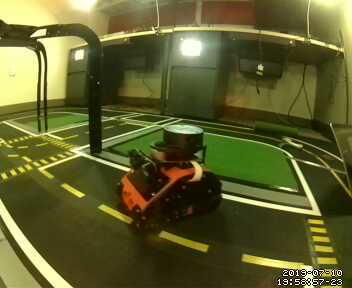pheeno: (115, 119, 226, 240)
